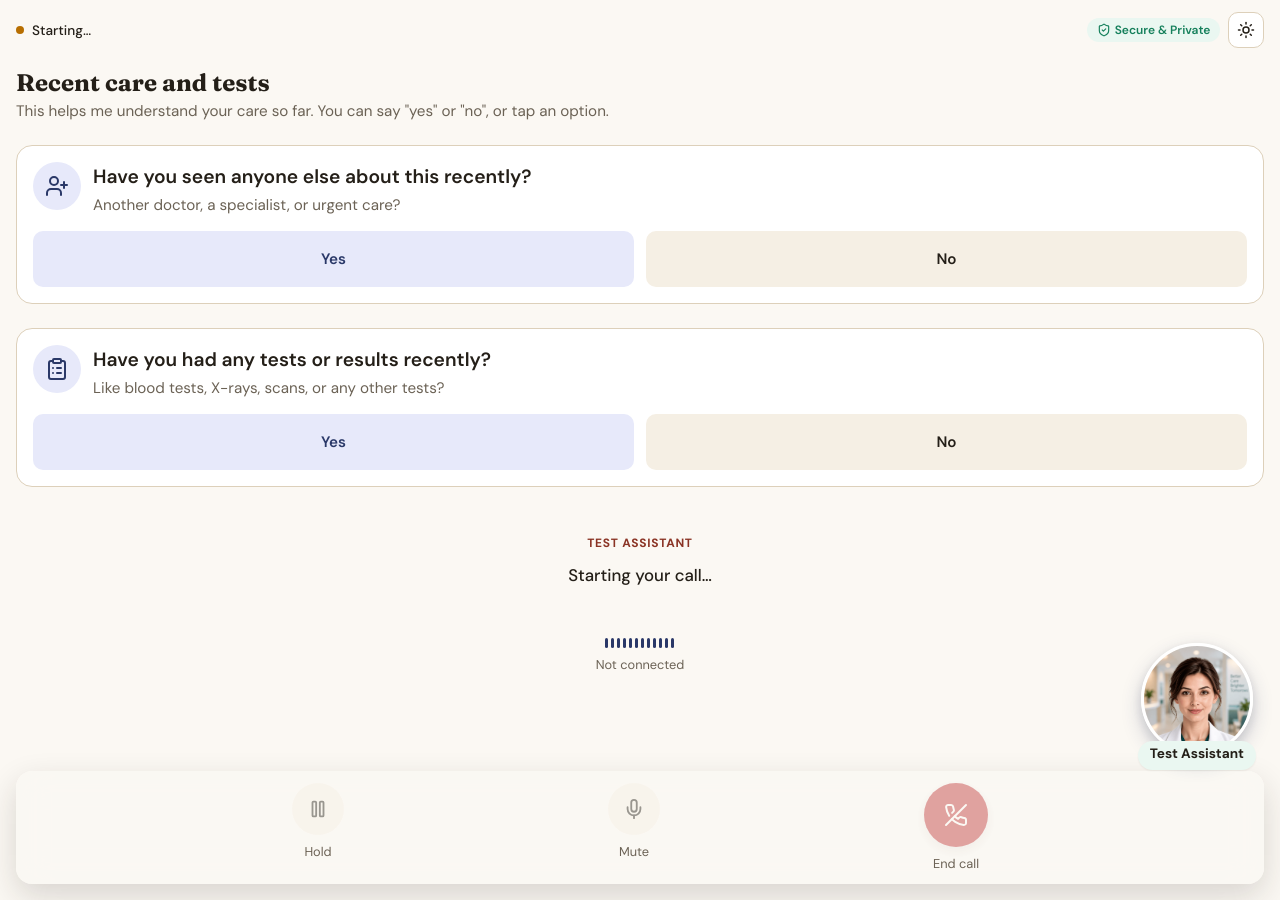
RecentCare › reveals provider details only once "seen anyone else" is answered yes
The width and height of the screenshot is (1280, 900).
Step 1. Click the 1st button "Yes" → click(334, 259), box x1=33 y1=231 x2=634 y2=287
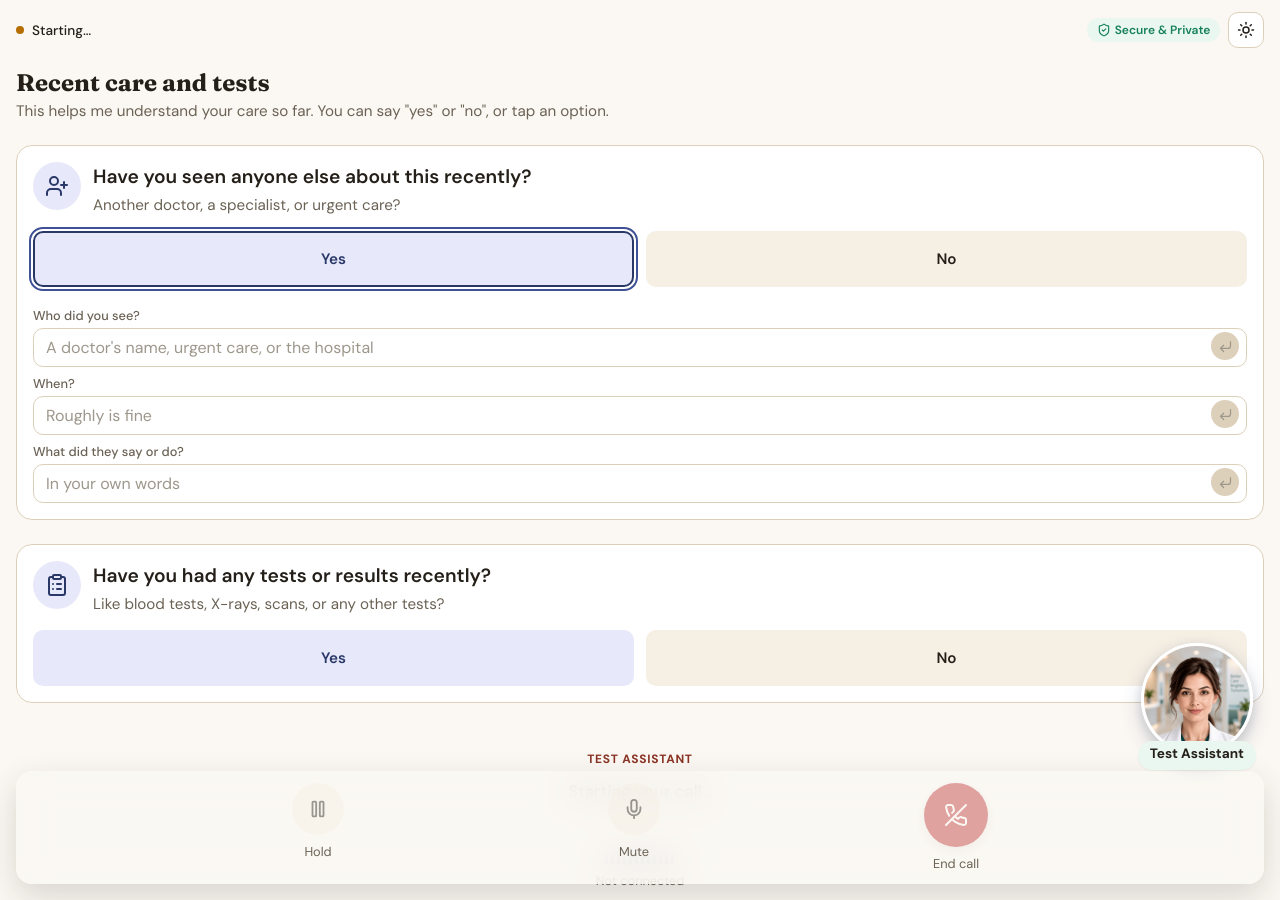
Check: the field labelled "Who did you see?" is shown, box x1=33 y1=328 x2=1247 y2=367
Check: the field labelled "When?" is shown, box x1=33 y1=396 x2=1247 y2=435
